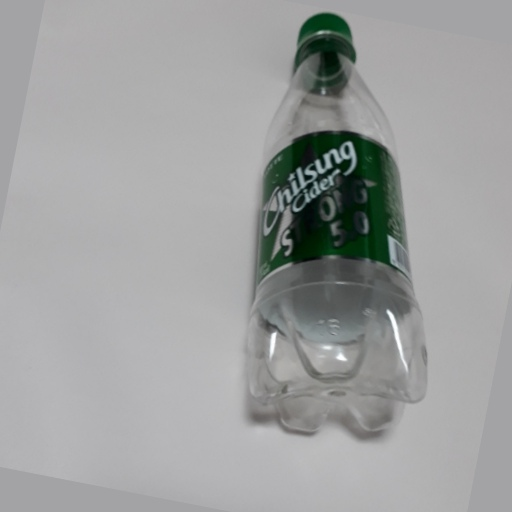Plastic_0: (248, 11, 433, 439)
